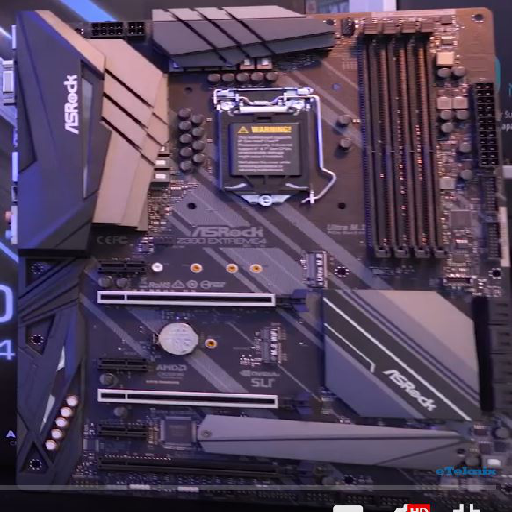CPU: (214, 85, 314, 206)
GPU: (96, 388, 313, 417), (95, 288, 309, 313)
MOTHERBOARD: (13, 8, 511, 504)
RAM: (359, 21, 451, 260)
SSD: (257, 324, 285, 365), (303, 249, 329, 289)
